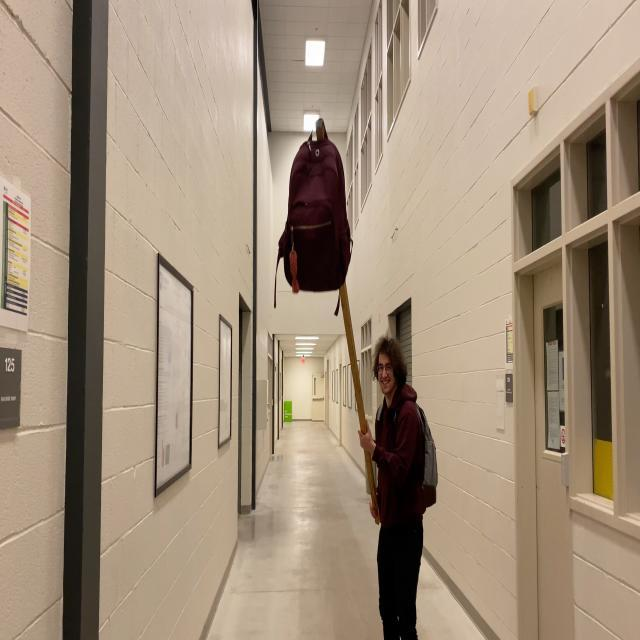Backpacks: (279, 136, 354, 292), (418, 406, 438, 514)
